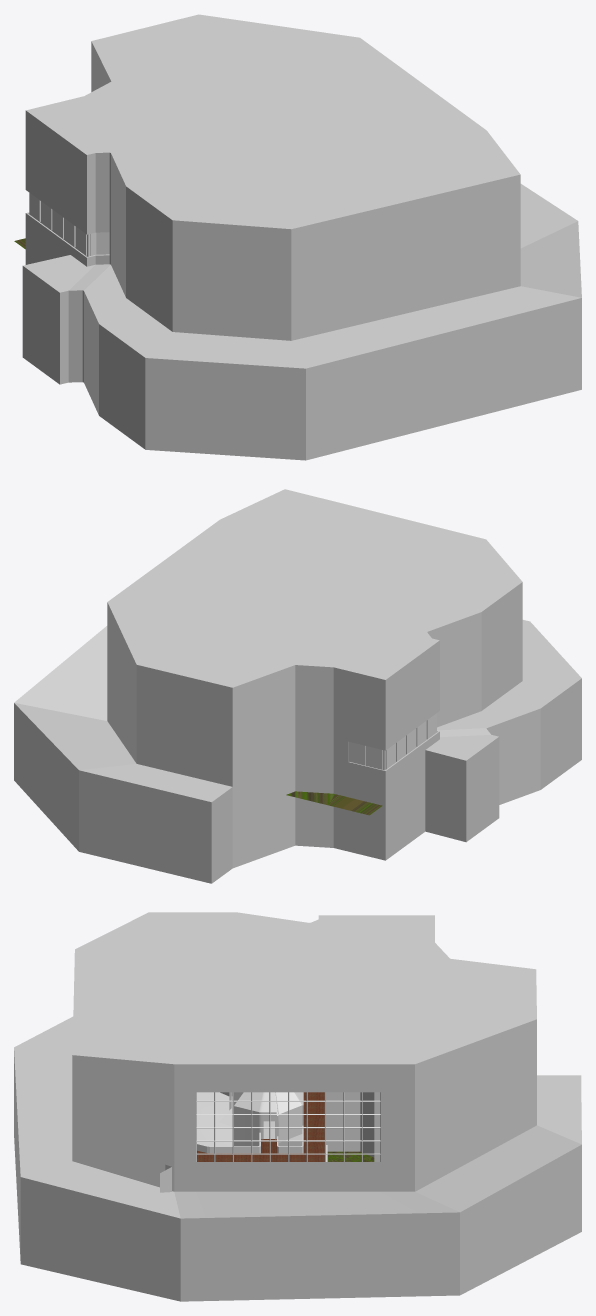
The model's file is fac1.fbx.
The picture shows the model from 3 angles, top to bottom: view 1: azimuth 30°, elevation 25°; view 2: azimuth 150°, elevation 25°; view 3: azimuth 270°, elevation 25°; orthographic projection. The views are drawn at different scales.
Visible parts, largest first — view 1: Plane.009, Plane.027; view 2: Plane.009, Plane.027, Plane.021; view 3: Plane.009, path5472.001, Plane.017, Plane.023, Plane.019, Plane.016, Plane.020.
Boxes of the visible parts, x1=… form: Plane.009: x1=22, y1=14, x2=581, y2=460; Plane.027: x1=29, y1=193, x2=109, y2=255; Plane.009: x1=14, y1=489, x2=581, y2=883; Plane.027: x1=349, y1=713, x2=436, y2=769; Plane.021: x1=286, y1=791, x2=382, y2=815; Plane.009: x1=14, y1=912, x2=581, y2=1301; path5472.001: x1=234, y1=1092, x2=303, y2=1146; Plane.017: x1=326, y1=1092, x2=379, y2=1161; Plane.023: x1=196, y1=1092, x2=380, y2=1161; Plane.019: x1=197, y1=1092, x2=324, y2=1161; Plane.016: x1=197, y1=1092, x2=232, y2=1146; Plane.020: x1=197, y1=1092, x2=327, y2=1161.
Bounding box in the file's own units: 3026 × 1262 × 3337.
